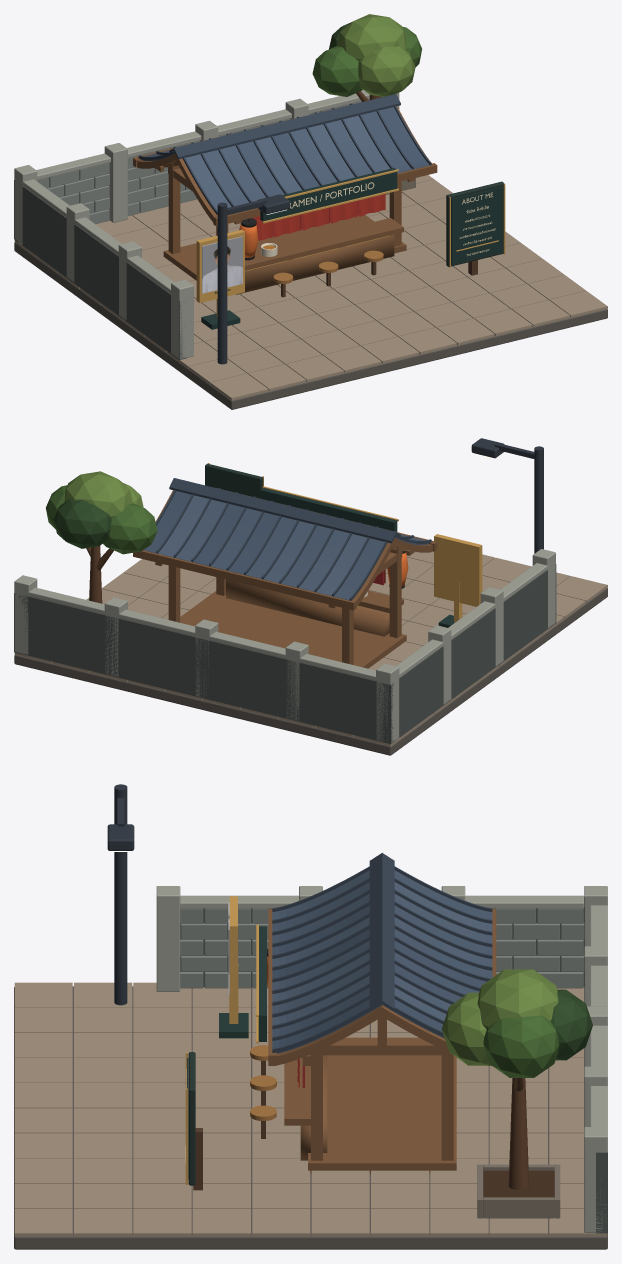
Rendered from ramen.glb.
3 renders of one model, top to bottom at view 1: azimuth 30°, elevation 25°; view 2: azimuth 150°, elevation 25°; view 3: azimuth 270°, elevation 25°, orthographic. The views are drawn at different scales.
Visible parts, largest first — view 1: Tile, Wall_left, Plane, PF_Profile_Inset, Wall_Left_Post, Wall_Brick, Wall_Post, Wall_cap, Roof_Ridge_Cap, Cube.008, Cube.007, PF_Header (+26 smaller); view 2: Wall_Back, Tile, Wall_left, Cube, Plane, Wall_Post, Wall_cap, Cube.008, Roof_Ridge_Cap, PF_Portrait_Frame, Wall_Left_Post, Leaves_Back (+27 smaller); view 3: Tile, Cube, Plane, Wall_Brick_Left, Wall_Brick_Left_Offset, Wall_Post, Roof_Ridge_Cap, Leaves_Right, Leaves_Top, Wall_Left_Post, Wall_cap, Wall_left_Cap (+40 smaller).
Part boxes in pixels (<box>): Tile: <box>14,175,607,400</box>; Wall_left: <box>22,186,186,359</box>; Plane: <box>14,242,607,409</box>; PF_Profile_Inset: <box>451,187,502,263</box>; Wall_Left_Post: <box>66,203,193,358</box>; Wall_Brick: <box>37,99,369,223</box>; Wall_Post: <box>14,93,399,244</box>; Wall_cap: <box>36,90,369,180</box>; Roof_Ridge_Cap: <box>169,94,400,159</box>; Cube.008: <box>235,234,394,294</box>; Cube.007: <box>245,218,403,270</box>; PF_Header: <box>260,168,397,221</box>; Wall_Back: <box>14,593,395,743</box>; Tile: <box>14,551,607,746</box>; Wall_left: <box>399,564,556,737</box>; Cube: <box>180,591,406,668</box>; Plane: <box>14,588,607,755</box>; Wall_Post: <box>14,575,399,742</box>; Wall_cap: <box>28,587,392,683</box>; Cube.008: <box>226,579,389,636</box>; Roof_Ridge_Cap: <box>169,478,400,543</box>; PF_Portrait_Frame: <box>434,534,482,606</box>; Wall_Left_Post: <box>428,549,555,704</box>; Leaves_Back: <box>53,498,111,548</box>; Tile: <box>14,982,607,1236</box>; Cube: <box>308,1037,456,1173</box>; Plane: <box>14,986,607,1249</box>; Wall_Brick_Left: <box>180,908,583,988</box>; Wall_Brick_Left_Offset: <box>181,923,584,971</box>; Wall_Post: <box>584,886,607,1232</box>; Roof_Ridge_Cap: <box>369,853,394,1011</box>; Leaves_Right: <box>483,1015,559,1077</box>; Leaves_Top: <box>477,969,558,1029</box>; Wall_Left_Post: <box>156,886,465,991</box>; Wall_cap: <box>590,905,607,1151</box>; Wall_left_Cap: <box>180,895,584,908</box>.
Bounding box in the file's own units: 10 × 4.52 × 10.
Materials: 34 (1 with a texture image).
